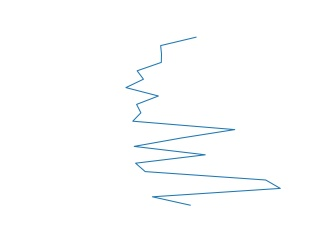crevasseRiverBedLagDeposit: (122, 36, 284, 210)
